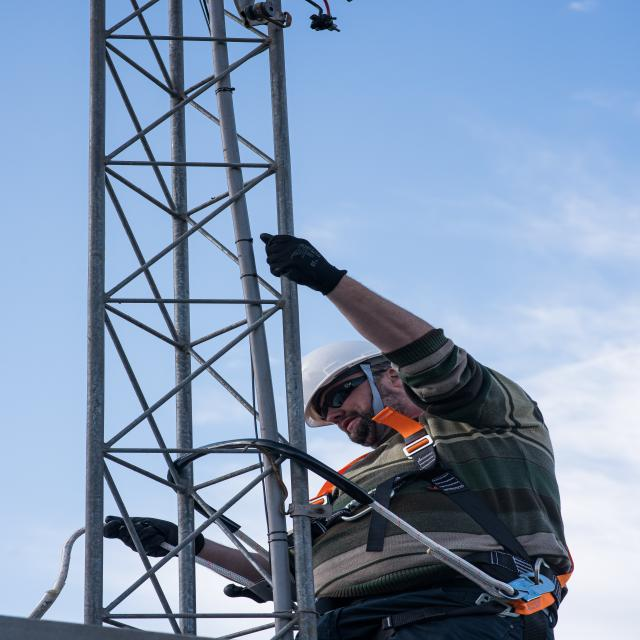capacete: (286, 335, 408, 432)
corda de vida: (279, 408, 585, 640)
luva: (251, 227, 354, 298), (98, 507, 211, 561)
